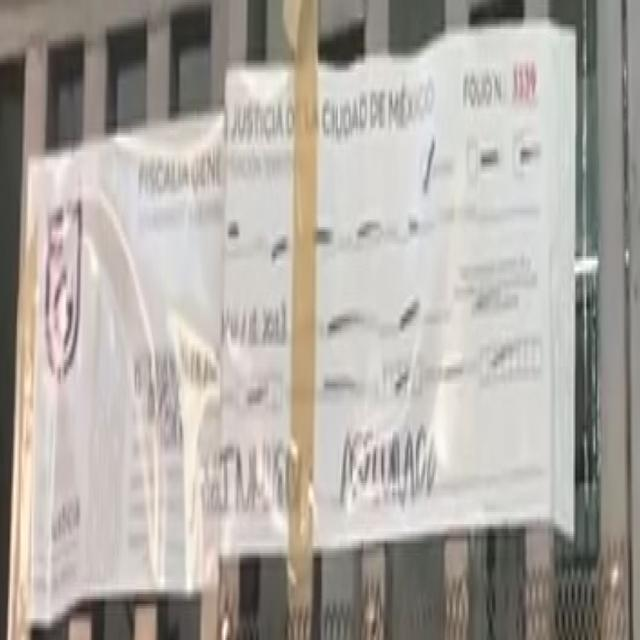stamps: (22, 32, 574, 633)
